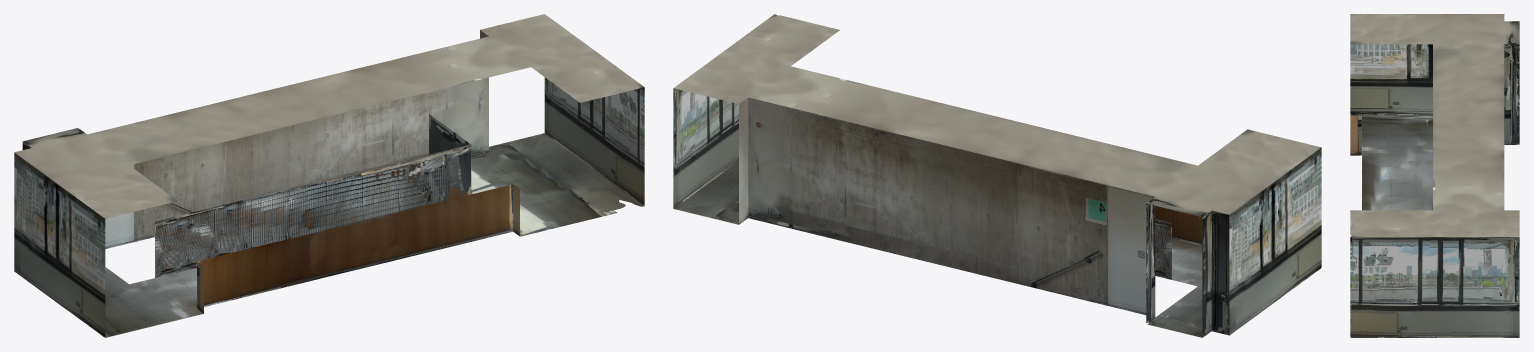
File: 4 Atrium ring bk LP.fbx
3 renders of one model, left to right at view 1: azimuth 30°, elevation 25°; view 2: azimuth 150°, elevation 25°; view 3: azimuth 270°, elevation 25°, orthographic. The views are drawn at different scales.
Visible parts, largest first — view 1: 4 atrium ting bk LP; view 2: 4 atrium ting bk LP; view 3: 4 atrium ting bk LP.
Boxes of the visible parts, x1,y1,x2,y2 form: 4 atrium ting bk LP: [14, 14, 644, 337]; 4 atrium ting bk LP: [673, 14, 1321, 337]; 4 atrium ting bk LP: [1350, 14, 1519, 337].
Bounding box in the file's own units: 1240 × 262 × 398.
Materials: 1 (1 with a texture image).
